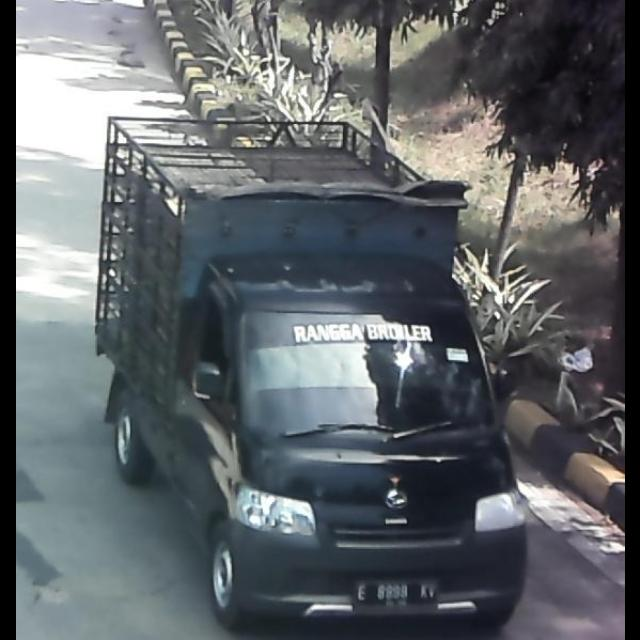plate: (351, 570, 443, 612)
